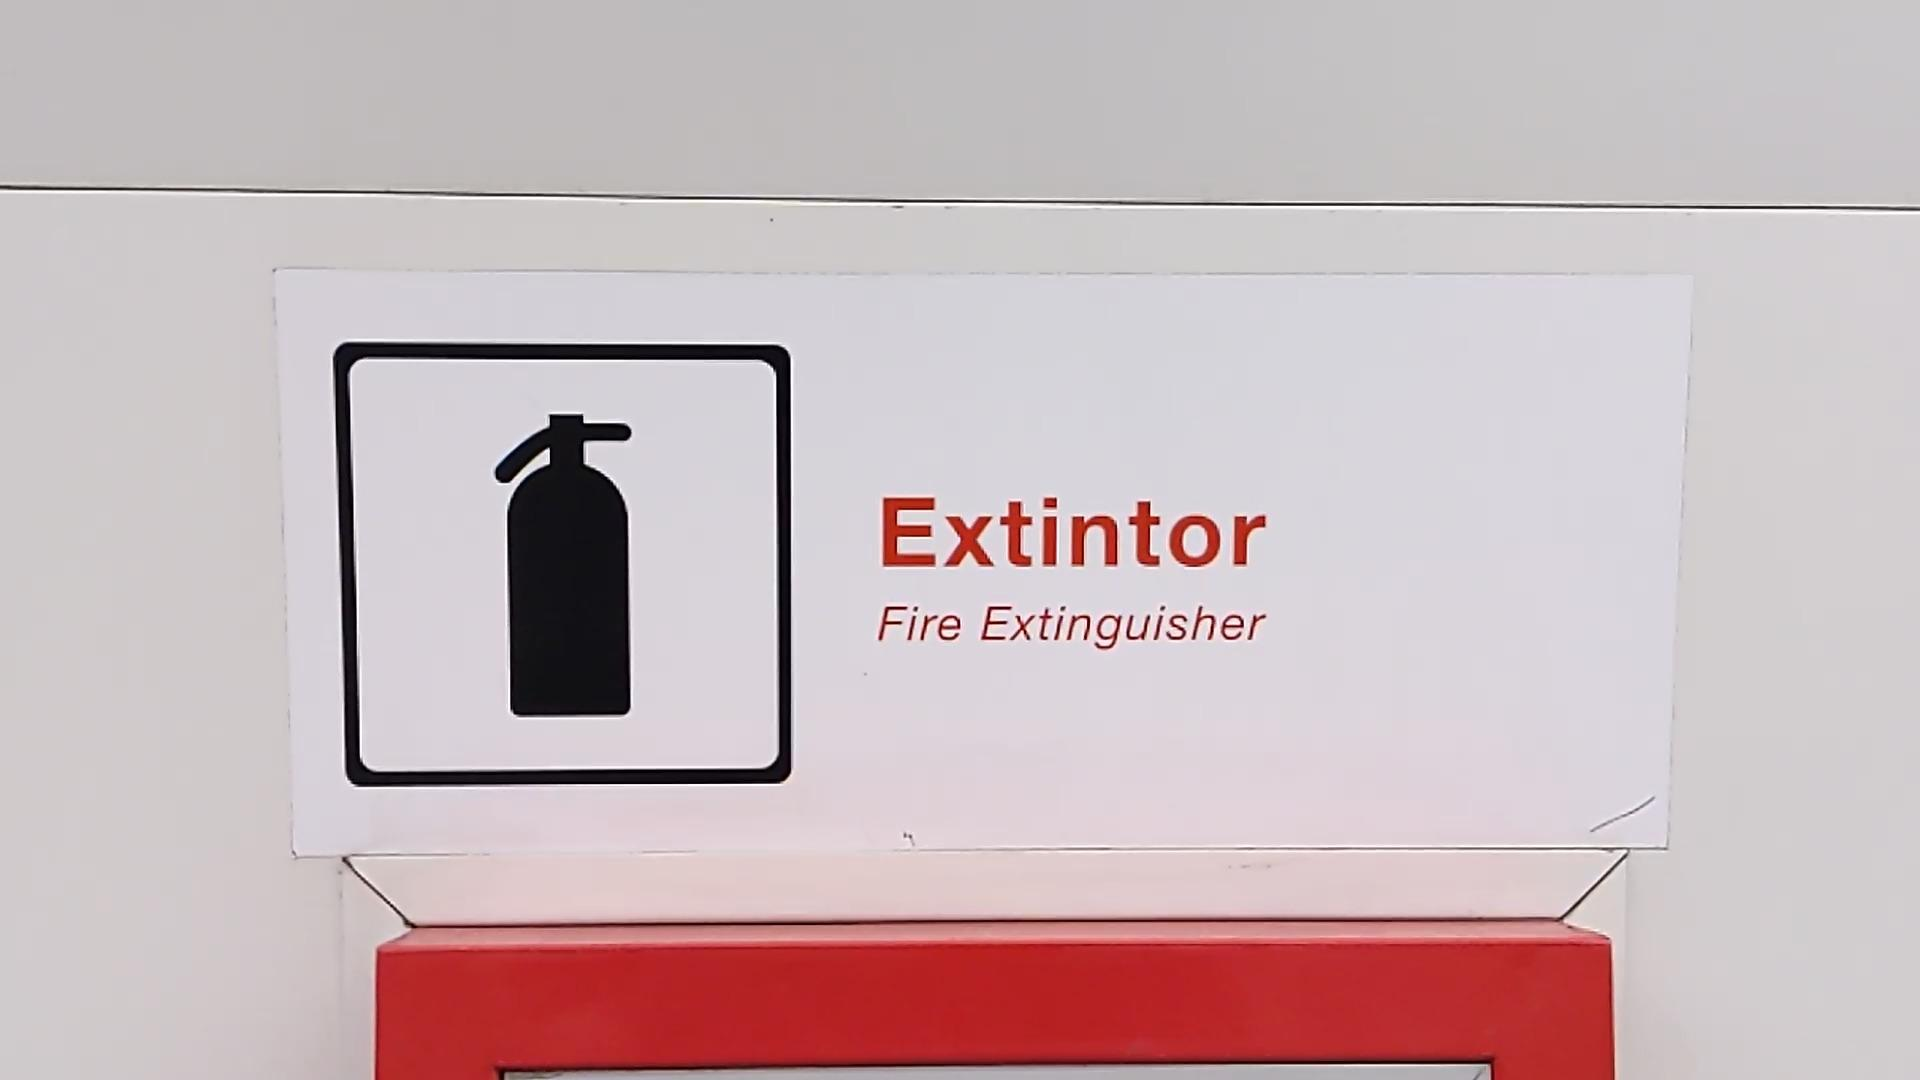extinguisher symbol: (484, 404, 649, 732)
